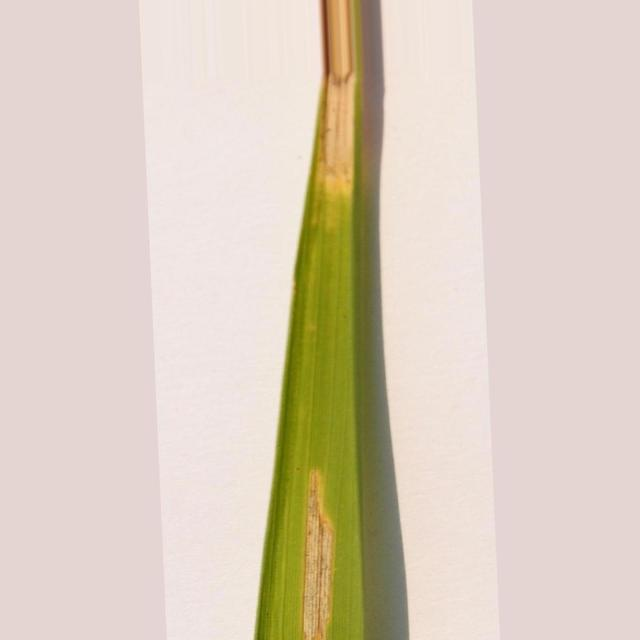Bacterial_Leaf_Blight: (316, 0, 354, 194), (302, 470, 334, 640)
